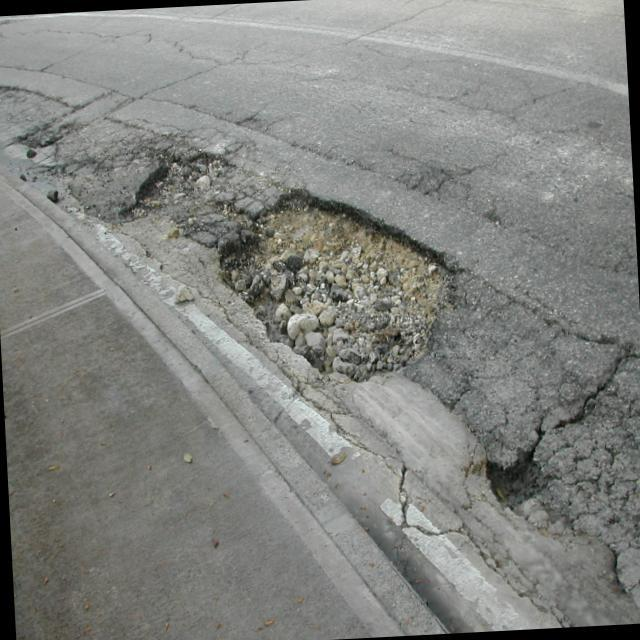Pothole: (207, 173, 462, 414), (128, 142, 225, 220), (474, 448, 551, 511), (9, 126, 67, 174)
